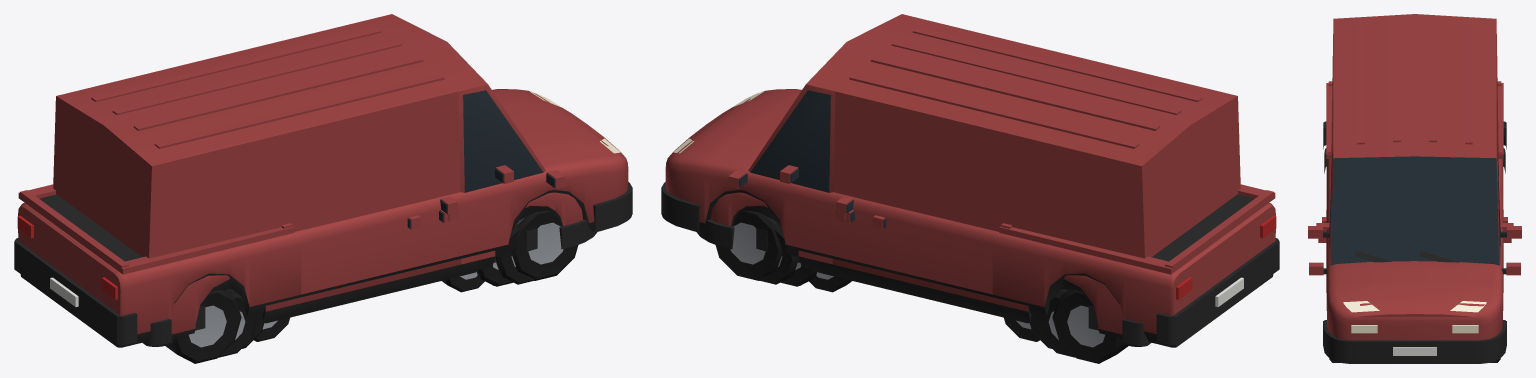
File: cars.glb
3 renders of one model, left to right at view 1: azimuth 30°, elevation 25°; view 2: azimuth 150°, elevation 25°; view 3: azimuth 270°, elevation 25°, orthographic. The views are drawn at different scales.
Visible parts, largest first — view 1: van, pickup, pickup_door4, pickup_door2, van_door2, suv, hatch, police; view 2: van, pickup, pickup_door3, pickup_door1, van_door1, suv, hatch, police; view 3: van, pickup, van_door2, van_door1, pickup_door3, pickup_door4.
Boxes of the visible parts, box(x1,y1,x2,y2) form: van: box(53, 14, 597, 357); pickup: box(14, 89, 632, 363); pickup_door4: box(299, 207, 401, 294); pickup_door2: box(399, 183, 509, 270); van_door2: box(458, 84, 555, 264); suv: box(195, 196, 537, 348); hatch: box(254, 215, 496, 341); police: box(265, 208, 476, 323); van: box(696, 14, 1240, 357); pickup: box(661, 89, 1279, 363); pickup_door3: box(892, 207, 994, 294); pickup_door1: box(784, 183, 894, 270); van_door1: box(738, 84, 835, 264); suv: box(756, 196, 1098, 348); hatch: box(797, 215, 1039, 341); police: box(817, 208, 1028, 323); van: box(1309, 14, 1520, 324); pickup: box(1308, 81, 1521, 363); van_door2: box(1329, 147, 1333, 265); van_door1: box(1496, 147, 1500, 264); pickup_door3: box(1498, 164, 1503, 213); pickup_door4: box(1326, 164, 1331, 213).
Bounding box in the file's own units: 5.92 × 2.29 × 2.44.
